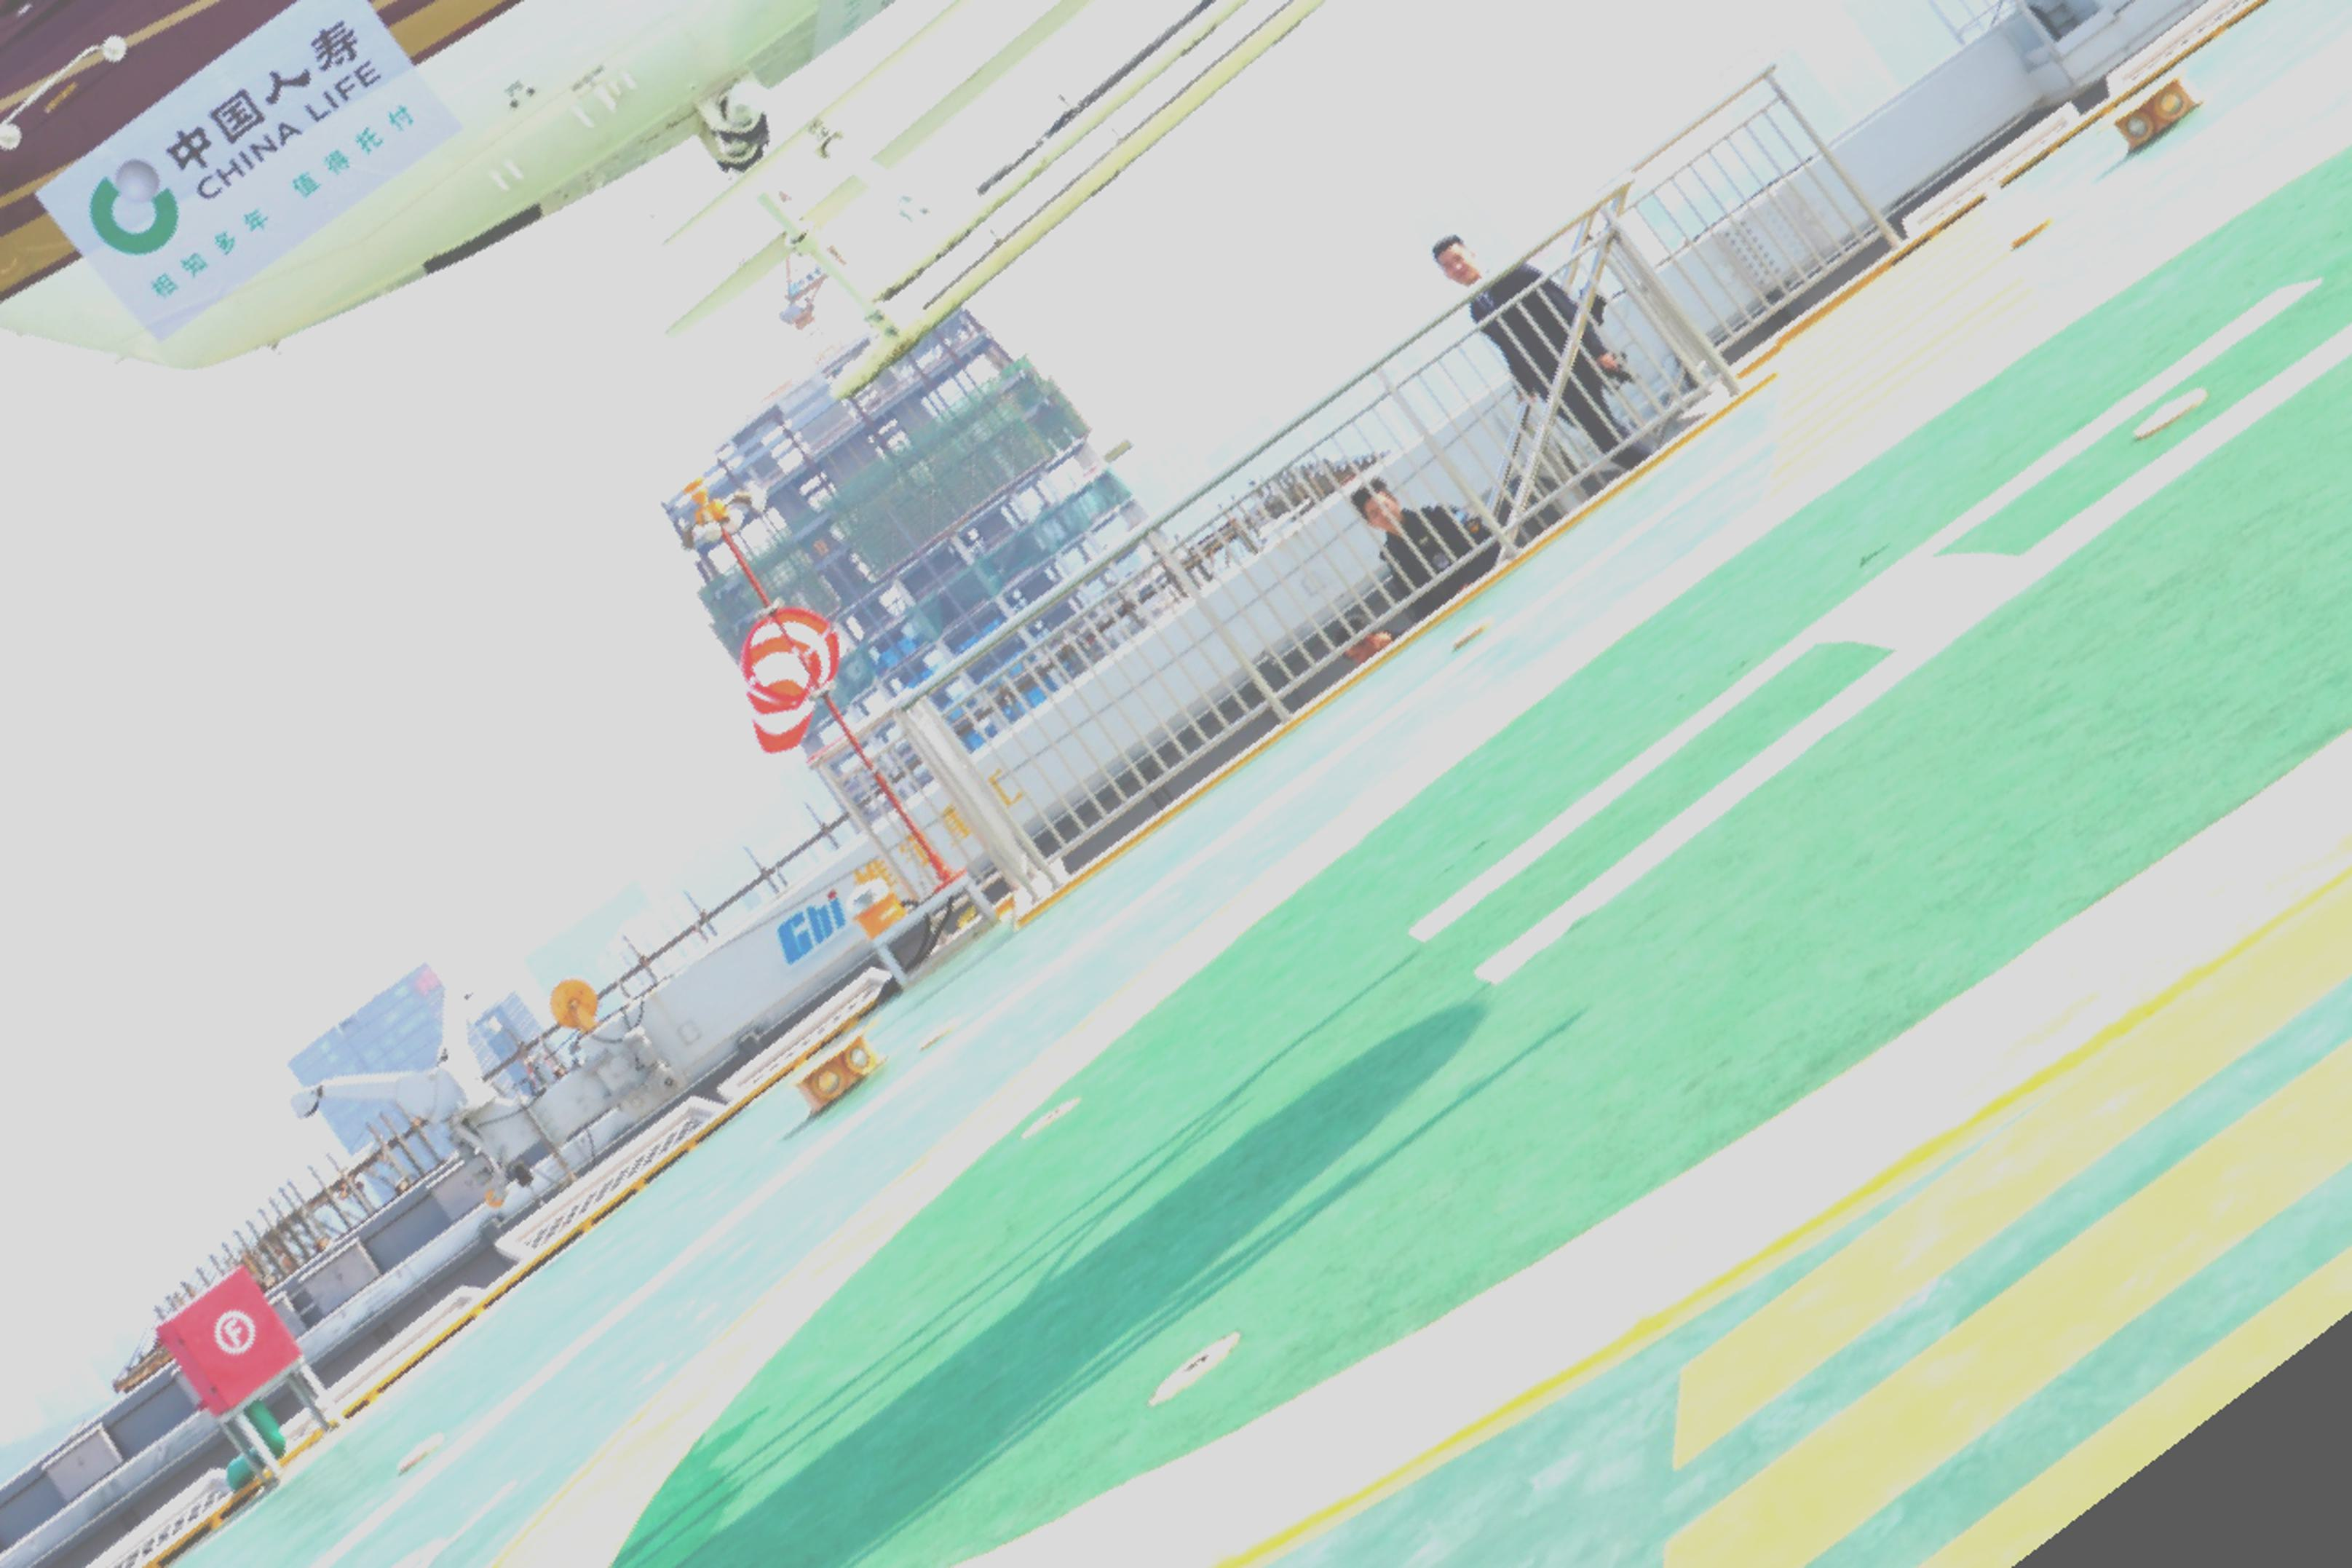Apron: (539, 110, 2352, 1568)
